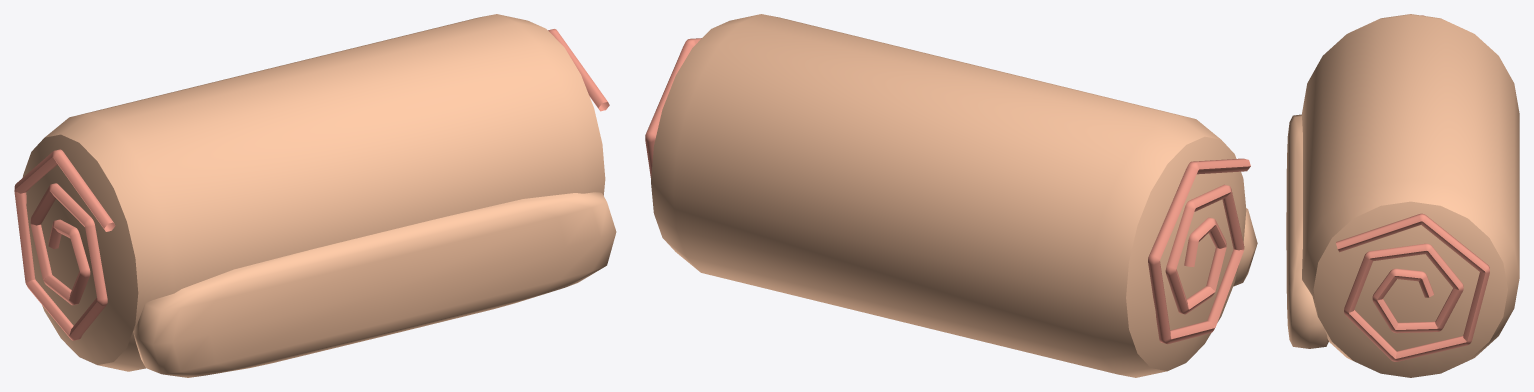
The model's file is toalha_enrolada_pessego.glb.
The picture shows the model from 3 angles, left to right: view 1: azimuth 30°, elevation 25°; view 2: azimuth 150°, elevation 25°; view 3: azimuth 270°, elevation 25°; orthographic projection. The views are drawn at different scales.
Parts seen in each view (by area): view 1: toalha_enrolada_pessego; view 2: toalha_enrolada_pessego; view 3: toalha_enrolada_pessego.
Part boxes in pixels (box(x1,y1,x2,y2)): toalha_enrolada_pessego: box(14, 14, 616, 377); toalha_enrolada_pessego: box(645, 14, 1257, 377); toalha_enrolada_pessego: box(1286, 14, 1519, 377).
Bounding box in the file's own units: 0.309 × 0.14 × 0.15.
Materials: 1 (1 with a texture image).
